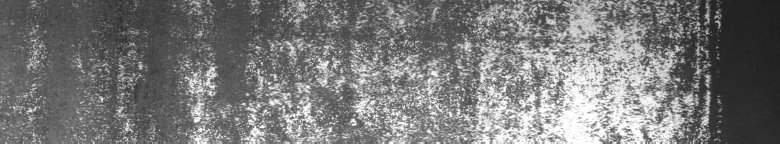kb: (4, 4, 724, 136)
